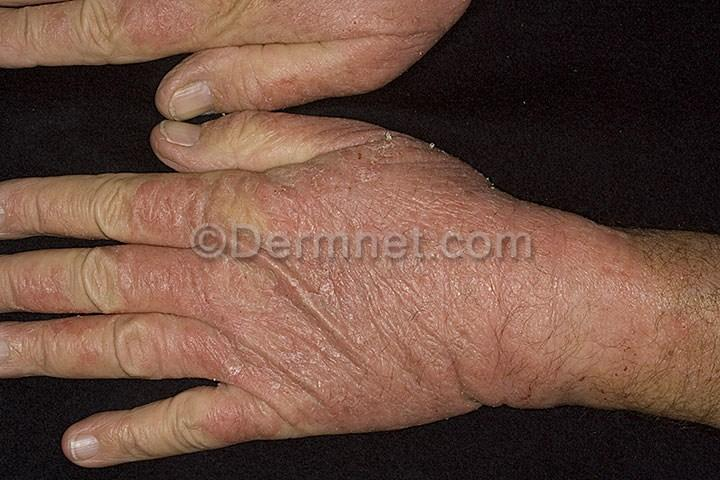Eczema: (430, 263, 573, 375), (224, 173, 371, 279), (111, 163, 239, 277), (280, 271, 429, 363), (364, 145, 477, 265), (110, 284, 272, 363), (563, 235, 668, 325), (301, 358, 424, 431), (92, 0, 218, 58), (185, 387, 297, 452), (284, 0, 394, 49), (51, 305, 112, 381), (2, 256, 65, 326), (236, 53, 306, 112), (318, 50, 403, 98), (385, 1, 459, 38)
